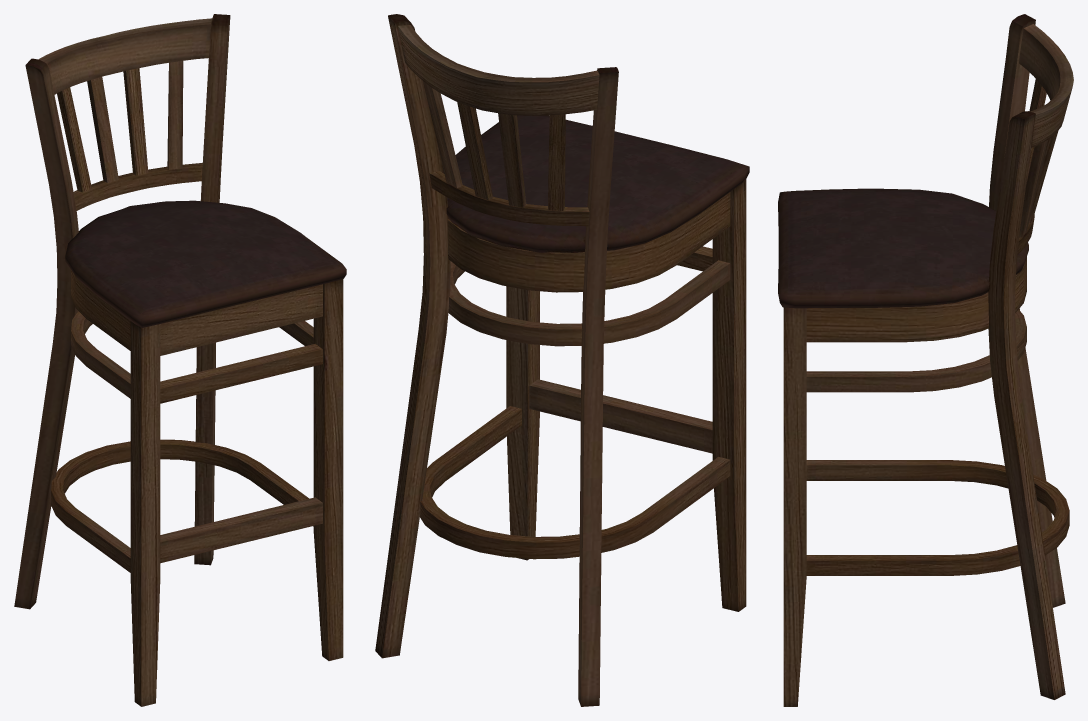
3 renders of one model, left to right at view 1: azimuth 30°, elevation 25°; view 2: azimuth 150°, elevation 25°; view 3: azimuth 270°, elevation 25°, orthographic. The views are drawn at different scales.
Parts seen in each view (by area): view 1: re_ho_01; view 2: re_ho_01; view 3: re_ho_01.
Boxes of the visible parts, <box> form: re_ho_01: <box>14,14,346,706</box>; re_ho_01: <box>375,14,749,706</box>; re_ho_01: <box>778,14,1073,706</box>.
Bounding box in the file's own units: 0.435 × 1.1 × 0.5034.
Materials: 1 (1 with a texture image).
